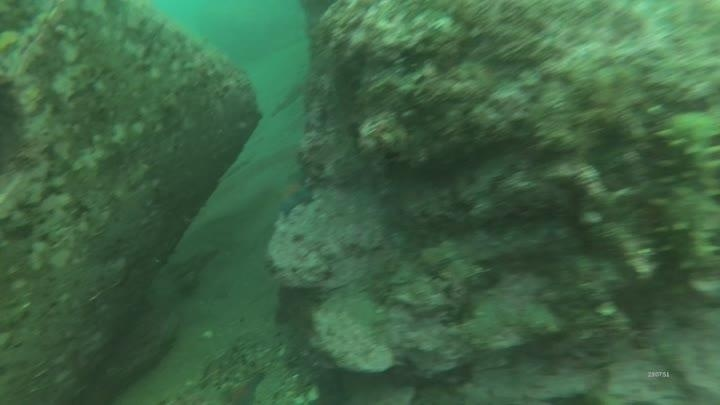holothurian: (646, 108, 720, 280)
starfish: (270, 169, 316, 220), (215, 368, 269, 404)
